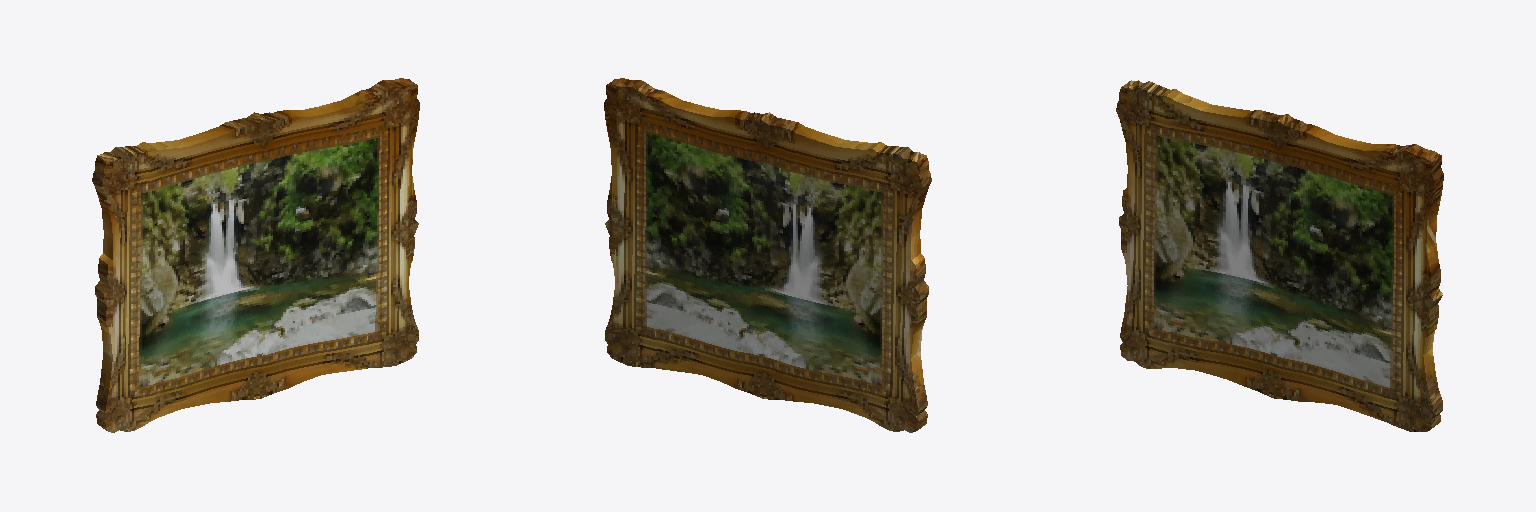
3 views of the same model, side by side, from view 1: azimuth 30°, elevation 25°; view 2: azimuth 150°, elevation 25°; view 3: azimuth 330°, elevation 25° (orthographic).
Visible parts, largest first — view 1: wallpicture2; view 2: wallpicture2; view 3: wallpicture2.
Boxes of the visible parts, x1=… form: wallpicture2: x1=92, y1=78, x2=419, y2=432; wallpicture2: x1=604, y1=78, x2=931, y2=432; wallpicture2: x1=1116, y1=80, x2=1443, y2=431.
Size of the model in its own units: 1.05 by 0.8817 by 0.0532.
1 materials, 1 textured.